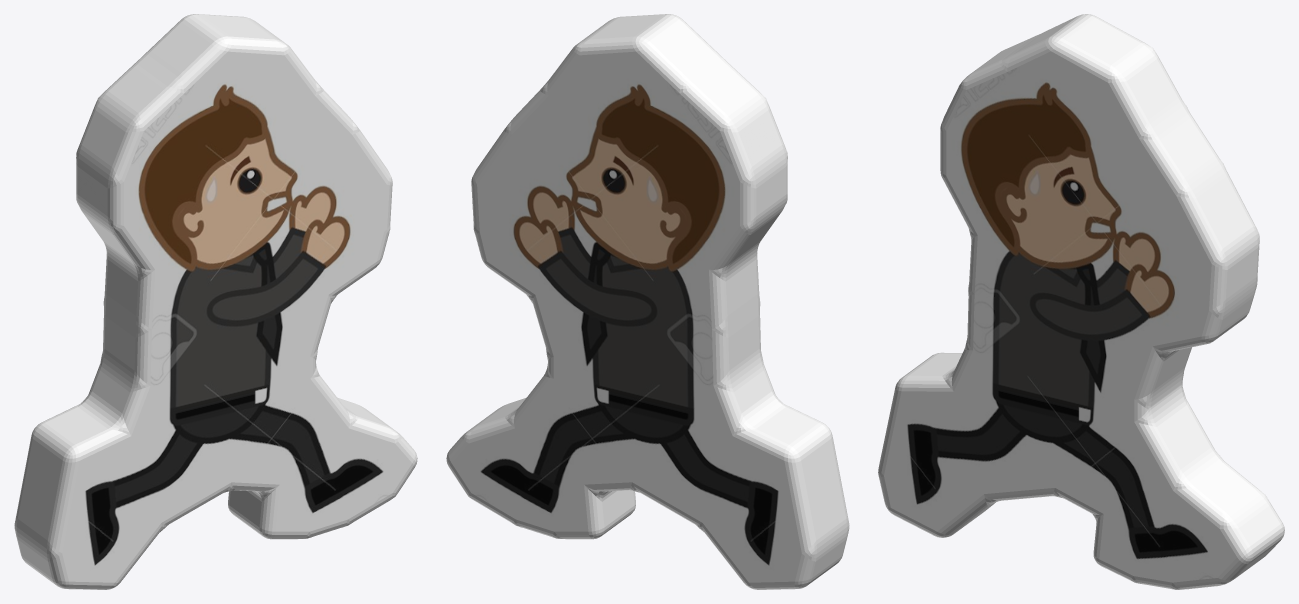
The model's file is characters_bad.fbx.
3 views of the same model, side by side, from view 1: azimuth 30°, elevation 25°; view 2: azimuth 150°, elevation 25°; view 3: azimuth 330°, elevation 25° (orthographic).
Visible parts, largest first — view 1: Plane; view 2: Plane; view 3: Plane.
Part boxes in pixels (box(x1,y1,x2,y2)): Plane: box(14, 14, 417, 589); Plane: box(446, 14, 849, 589); Plane: box(878, 14, 1284, 589).
Size of the model in its own units: 453 by 614 by 89.23.
